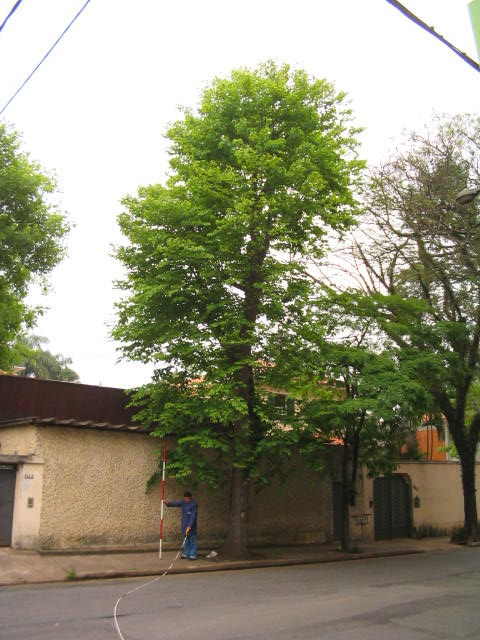crown: (109, 62, 358, 463)
stem: (213, 466, 277, 560), (446, 455, 480, 546)
stick: (151, 443, 172, 559)
tree: (107, 60, 358, 562), (358, 113, 480, 547)
